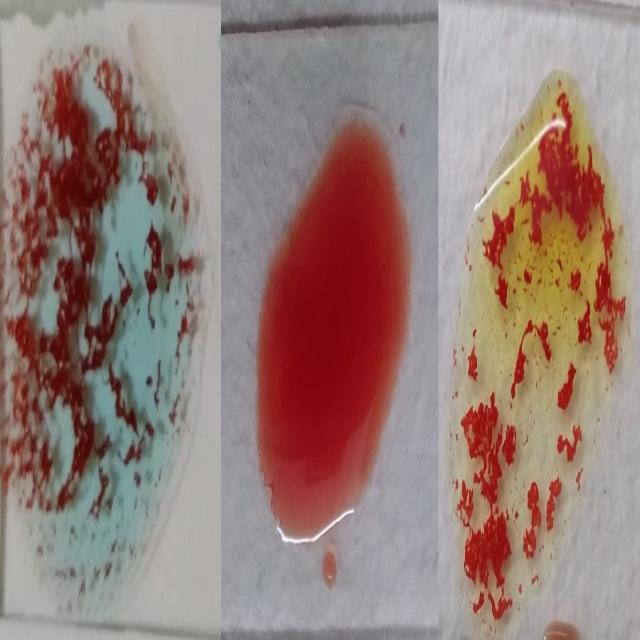A: (6, 36, 177, 590)
B: (457, 62, 626, 635)
